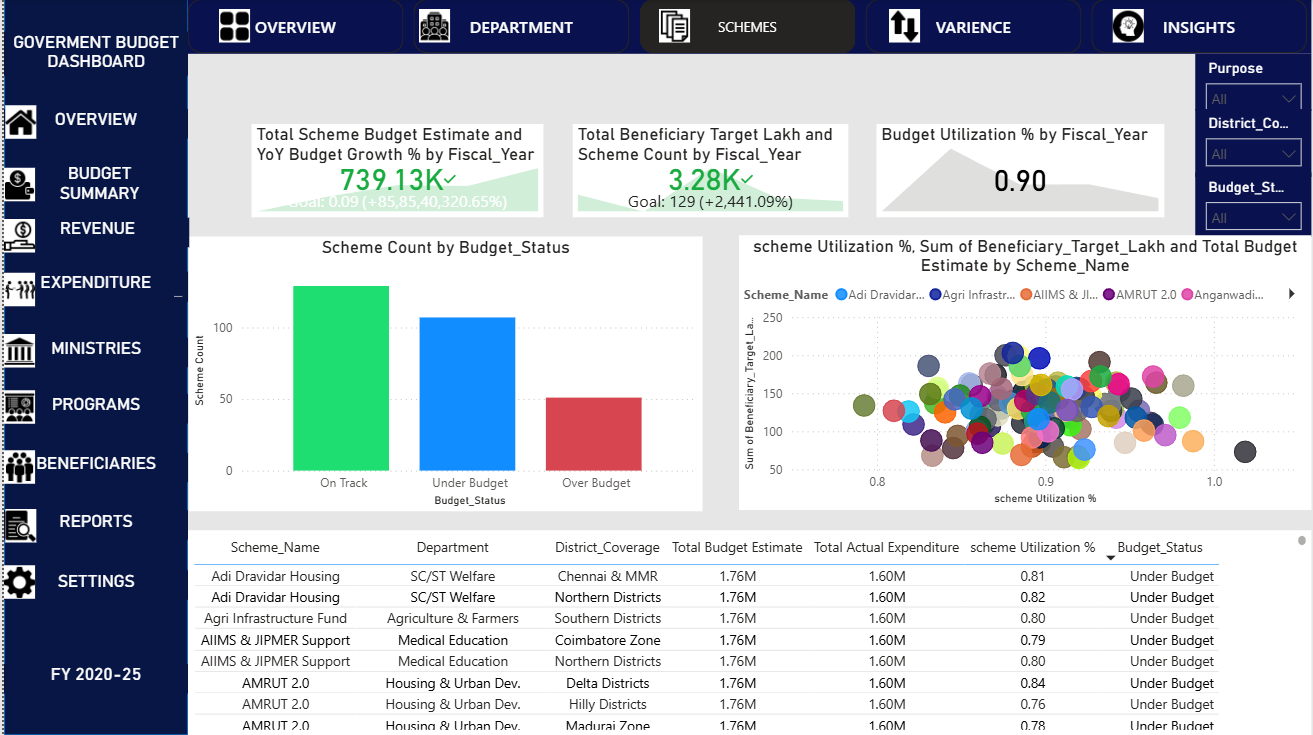

Layout of this report page (visuals, bound fields, positions):
{"tool":"powerbi","page":{"name":"SCHEMES","canvas":[1280,720],"ordinal":2},"visuals":[{"type":"slicer","fields":{"Values":["TN_Scheme_Level_Spending_2020_2025 .Purpose"]},"box":[1165.8,53.4,114,54.8],"z":1},{"type":"slicer","fields":{"Values":["TN_Scheme_Level_Spending_2020_2025 .District_Coverage"]},"box":[1165.8,108.2,114,66.4],"z":2},{"type":"slicer","fields":{"Values":["TN_Scheme_Level_Spending_2020_2025 .Budget_Status"]},"box":[1165.8,170.2,114,62],"z":3},{"type":"columnChart","fields":{"Category":["TN_Scheme_Level_Spending_2020_2025 .Budget_Status"],"Y":["MEASURE 3.Scheme Count"]},"box":[181,232.3,502.6,269],"z":14},{"type":"scatterChart","fields":{"Series":["TN_Scheme_Level_Spending_2020_2025 .Scheme_Name"],"Size":["MEASURE 1.Total Budget Estimate"],"X":["MEASURE 3.scheme Utilization %"],"Y":["Sum(TN_Scheme_Level_Spending_2020_2025 .Beneficiary_Target_Lakh)"]},"box":[719,231.1,560.1,269],"z":15},{"type":"tableEx","fields":{"Values":["TN_Scheme_Level_Spending_2020_2025 .Scheme_Name","TN_Scheme_Level_Spending_2020_2025 .Department","TN_Scheme_Level_Spending_2020_2025 .District_Coverage","MEASURE 1.Total Budget Estimate","MEASURE 1.Total Actual Expenditure","MEASURE 3.scheme Utilization %","TN_Scheme_Level_Spending_2020_2025 .Budget_Status"]},"box":[180.3,519.4,1099.4,200.5],"z":16},{"type":"shape","box":[0,0,180,720.2],"z":17},{"type":"kpi","fields":{"Goal":["measure 4.YoY Budget Growth %"],"Indicator":["MEASURE 3.Total Scheme Budget Estimate"],"TrendLine":["DIM_FISCAL_YEAR.Fiscal_Year"]},"box":[242.4,122.6,285.7,90.9],"z":18},{"type":"kpi","fields":{"Goal":["MEASURE 3.Scheme Count"],"Indicator":["MEASURE 3.Total Beneficiary Target Lakh"],"TrendLine":["DIM_FISCAL_YEAR.Fiscal_Year"]},"box":[556.9,122.6,269.8,90.9],"z":19},{"type":"kpi","fields":{"Indicator":["MEASURE 1.Budget Utilization %"],"TrendLine":["DIM_FISCAL_YEAR.Fiscal_Year"]},"box":[854.1,122.6,281.3,90.9],"z":20},{"type":"textbox","title":"GOVERMENT BUDGET DASHBOARD","box":[0,31.7,180.3,43.3],"z":21},{"type":"textbox","title":"OVERVIEW","box":[0,108.2,180.3,28.9],"z":22},{"type":"textbox","title":"      BUDGET SUMMARY","box":[17.3,160.1,152.9,41.8],"z":23},{"type":"textbox","title":"REVENUE","box":[1.4,213.5,180.3,28.9],"z":24},{"type":"textbox","title":"EXPENDITURE","box":[0,266.6,179.8,29.3],"z":25},{"type":"textbox","title":"MINISTRIES","box":[0,331.8,180.3,28.9],"z":26},{"type":"textbox","title":"PROGRAMS","box":[0,386.7,180.3,28.9],"z":27},{"type":"textbox","title":"BENEFICIARIES","box":[0,444.4,180.3,28.9],"z":28},{"type":"textbox","title":"REPORTS","box":[0,500.6,180.3,28.9],"z":29},{"type":"textbox","title":"SETTINGS","box":[0,558.3,180.3,28.9],"z":30},{"type":"textbox","title":"FY 2020-25   ","box":[0,650.7,180.3,28.9],"z":31},{"type":"pageNavigator","box":[180.3,0,1099.4,53.4],"z":32},{"type":"image","box":[210.6,10.1,30.3,33.2],"z":33},{"type":"image","box":[405.4,10.1,30.3,33.2],"z":34},{"type":"image","box":[640.6,10.1,30.3,33.2],"z":35},{"type":"image","box":[865.7,10.1,30.3,33.2],"z":36},{"type":"image","box":[1085,10.1,30.3,33.2],"z":37},{"type":"image","box":[1.4,103.9,30.3,33.2],"z":38},{"type":"image","box":[0,164.5,30.3,33.2],"z":39},{"type":"image","box":[0,215,30.3,33.2],"z":40},{"type":"image","box":[0,268.4,30.3,33.2],"z":41},{"type":"image","box":[0,327.5,30.3,33.2],"z":42},{"type":"image","box":[0,382.3,30.3,33.2],"z":43},{"type":"image","box":[0,441.5,30.3,33.2],"z":44},{"type":"image","box":[1.4,499.2,30.3,33.2],"z":45},{"type":"image","box":[0,554,30.3,33.2],"z":46}]}

Visuals, with their boxes in screenshot pixels (x1, y1, x2, y2), scaled from the page's 1280x720 canvas onto the 1313x735 screenshot:
slicer - TN_Scheme_Level_Spending_2020_2025 .Purpose: rect(1196, 55, 1312, 110)
slicer - TN_Scheme_Level_Spending_2020_2025 .District_Coverage: rect(1196, 110, 1312, 178)
slicer - TN_Scheme_Level_Spending_2020_2025 .Budget_Status: rect(1196, 174, 1312, 237)
columnChart - TN_Scheme_Level_Spending_2020_2025 .Budget_Status x MEASURE 3.Scheme Count: rect(186, 237, 701, 512)
scatterChart - TN_Scheme_Level_Spending_2020_2025 .Scheme_Name x MEASURE 1.Total Budget Estimate: rect(738, 236, 1312, 511)
tableEx - TN_Scheme_Level_Spending_2020_2025 .Scheme_Name x TN_Scheme_Level_Spending_2020_2025 .Department: rect(185, 530, 1312, 734)
shape: rect(0, 0, 185, 734)
kpi - measure 4.YoY Budget Growth % x MEASURE 3.Total Scheme Budget Estimate: rect(249, 125, 542, 218)
kpi - MEASURE 3.Scheme Count x MEASURE 3.Total Beneficiary Target Lakh: rect(571, 125, 848, 218)
kpi - MEASURE 1.Budget Utilization % x DIM_FISCAL_YEAR.Fiscal_Year: rect(876, 125, 1165, 218)
"GOVERMENT BUDGET DASHBOARD" textbox: rect(0, 32, 185, 77)
"OVERVIEW" textbox: rect(0, 110, 185, 140)
"      BUDGET SUMMARY" textbox: rect(18, 163, 175, 206)
"REVENUE" textbox: rect(1, 218, 186, 247)
"EXPENDITURE" textbox: rect(0, 272, 184, 302)
"MINISTRIES" textbox: rect(0, 339, 185, 368)
"PROGRAMS" textbox: rect(0, 395, 185, 424)
"BENEFICIARIES" textbox: rect(0, 454, 185, 483)
"REPORTS" textbox: rect(0, 511, 185, 541)
"SETTINGS" textbox: rect(0, 570, 185, 599)
"FY 2020-25   " textbox: rect(0, 664, 185, 694)
pageNavigator: rect(185, 0, 1312, 55)
image: rect(216, 10, 247, 44)
image: rect(416, 10, 447, 44)
image: rect(657, 10, 688, 44)
image: rect(888, 10, 919, 44)
image: rect(1113, 10, 1144, 44)
image: rect(1, 106, 33, 140)
image: rect(0, 168, 31, 202)
image: rect(0, 219, 31, 253)
image: rect(0, 274, 31, 308)
image: rect(0, 334, 31, 368)
image: rect(0, 390, 31, 424)
image: rect(0, 451, 31, 485)
image: rect(1, 510, 33, 543)
image: rect(0, 566, 31, 599)
